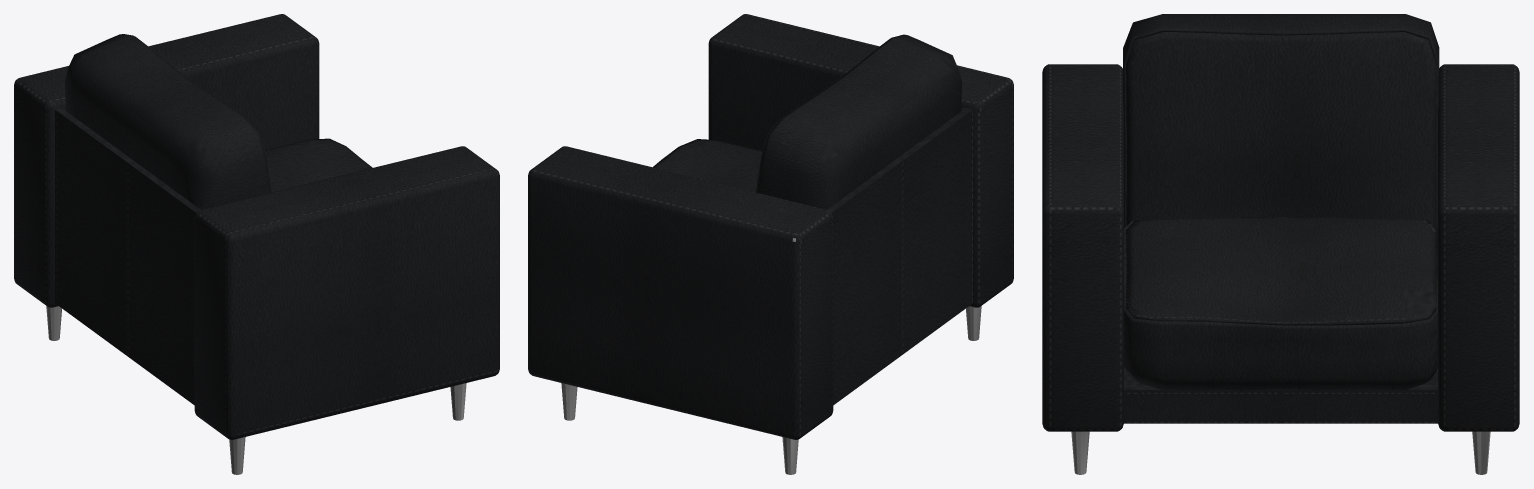
File: loungechair1.FBX
3 renders of one model, left to right at view 1: azimuth 30°, elevation 25°; view 2: azimuth 150°, elevation 25°; view 3: azimuth 270°, elevation 25°, orthographic. The views are drawn at different scales.
Visible parts, largest first — view 1: ChamferBox010; view 2: ChamferBox010; view 3: ChamferBox010.
Boxes of the visible parts, x1,y1,x2,y2 form: ChamferBox010: (14, 14, 499, 474); ChamferBox010: (528, 14, 1013, 474); ChamferBox010: (1042, 14, 1519, 474).
Size of the model in its own units: 0.6888 by 0.736 by 0.9136.
